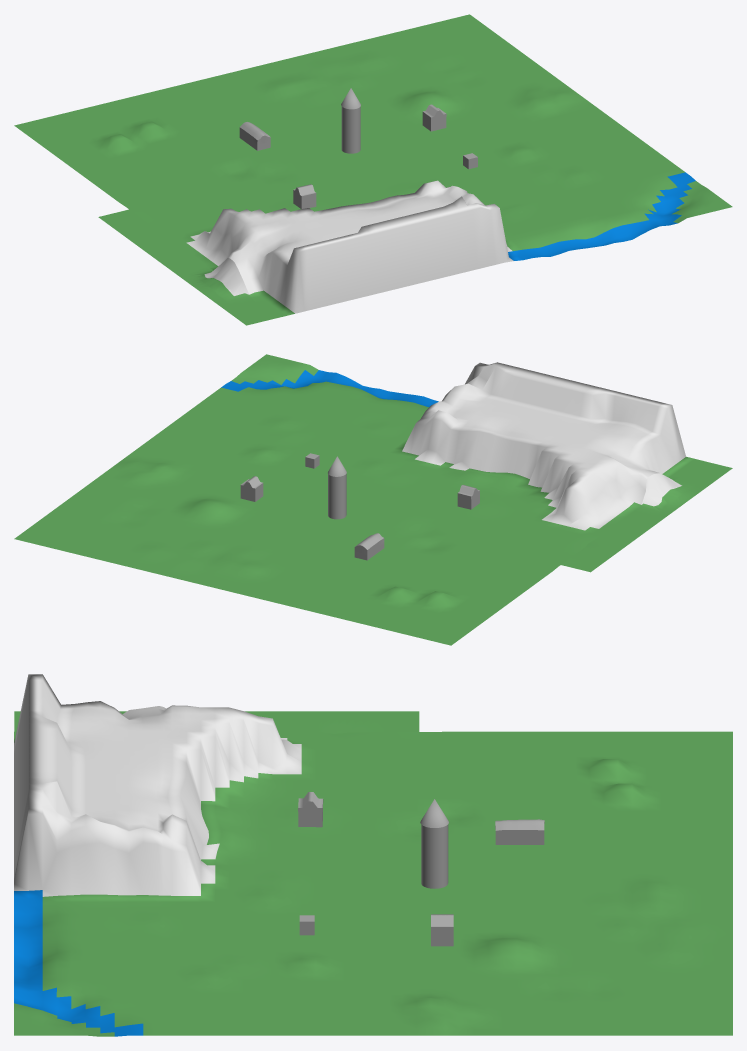
3 renders of one model, top to bottom at view 1: azimuth 30°, elevation 25°; view 2: azimuth 150°, elevation 25°; view 3: azimuth 270°, elevation 25°, orthographic. The views are drawn at different scales.
Parts seen in each view (by area): view 1: pPlane9, pCylinder2, pasted__pCube2; view 2: pPlane9, pCylinder2, pasted__pCube2; view 3: pPlane9, pCylinder2, pasted__pCube2.
Part boxes in pixels (x1,y1,x2,y2): pPlane9: [14, 14, 732, 325]; pCylinder2: [341, 88, 360, 153]; pasted__pCube2: [239, 122, 270, 150]; pPlane9: [14, 354, 732, 645]; pCylinder2: [328, 456, 346, 519]; pasted__pCube2: [354, 533, 384, 560]; pPlane9: [14, 674, 732, 1036]; pCylinder2: [420, 799, 448, 888]; pasted__pCube2: [495, 819, 544, 844].
Bounding box in the file's own units: 768 × 110 × 719.
